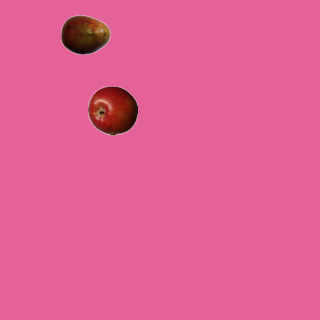Apple Braeburn: (87, 85, 137, 135)
Mango Red: (60, 9, 110, 59)
